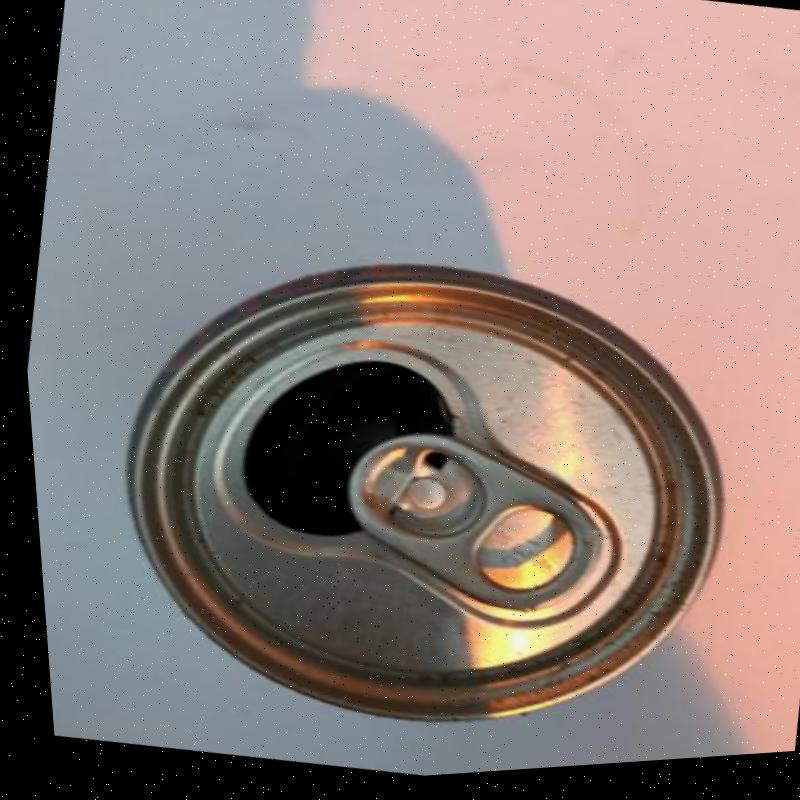aluminum: (122, 264, 722, 721)
